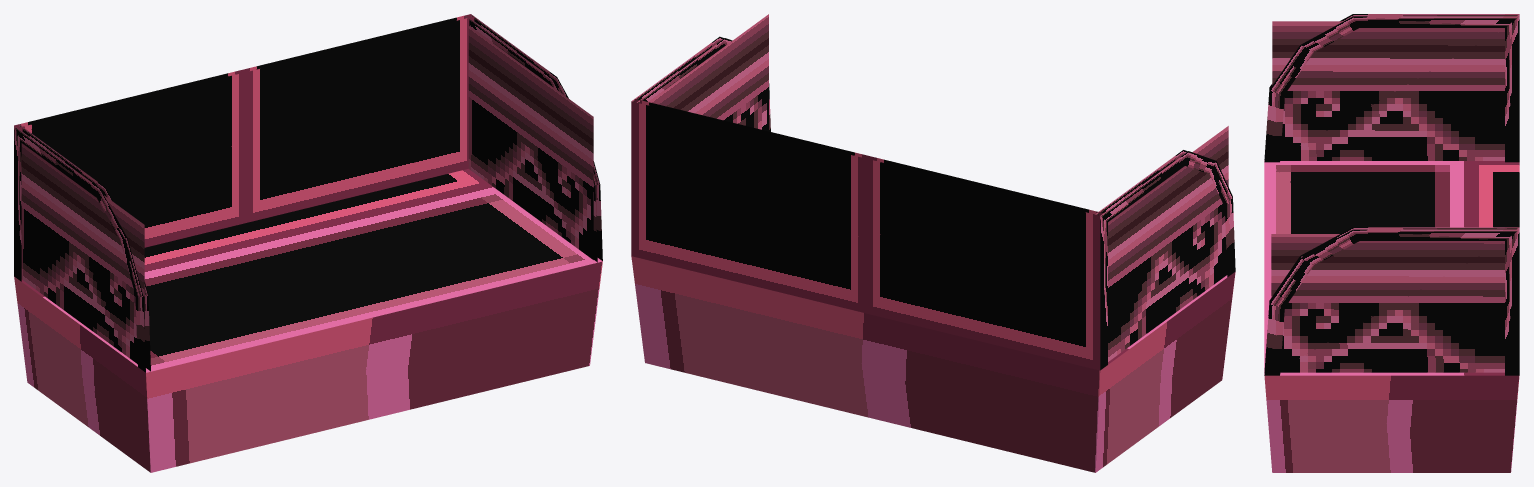
3 views of the same model, side by side, from view 1: azimuth 30°, elevation 25°; view 2: azimuth 150°, elevation 25°; view 3: azimuth 270°, elevation 25° (orthographic). The views are drawn at different scales.
Parts seen in each view (by area): view 1: 3877kg3case05; view 2: 3877kg3case05; view 3: 3877kg3case05.
Boxes of the visible parts, left/top/right/bottom form: 3877kg3case05: left=14, top=14, right=602, bottom=472; 3877kg3case05: left=631, top=14, right=1235, bottom=472; 3877kg3case05: left=1264, top=14, right=1519, bottom=472.
Size of the model in its own units: 2 by 1.07 by 1.
Materials: 4 (4 with a texture image).
